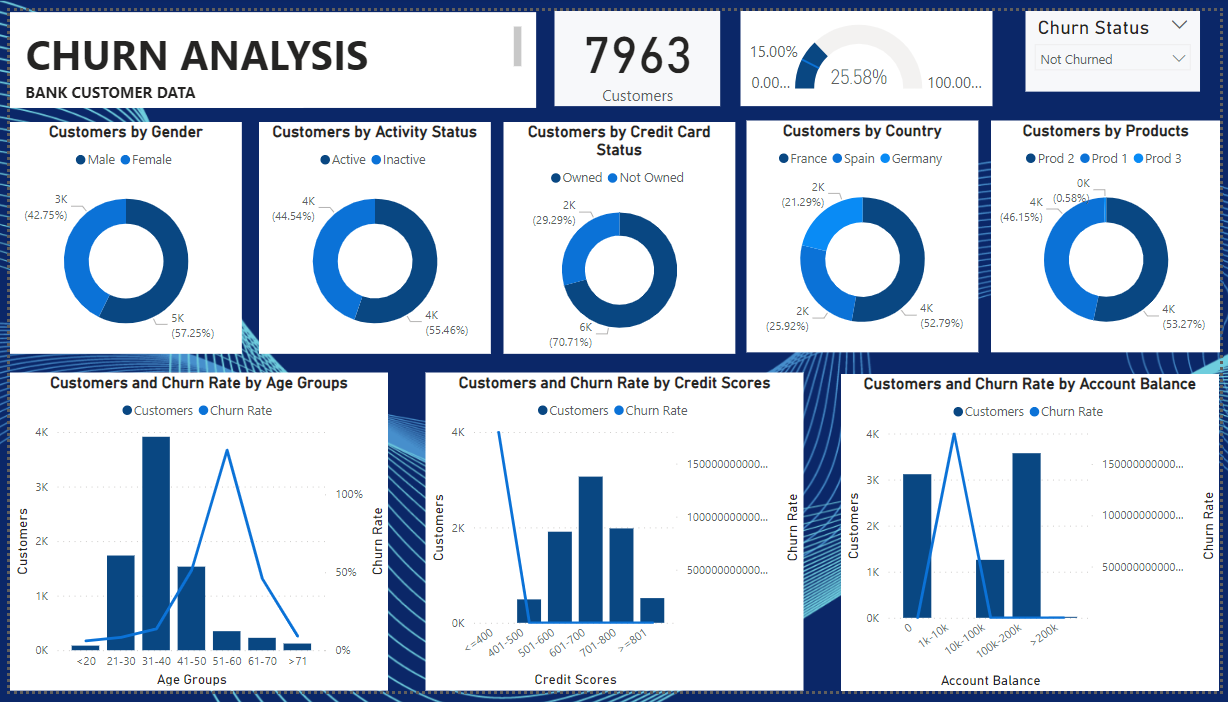

This screenshot's page, from the dashboard's own definition file:
{"tool":"powerbi","page":{"name":"Page 1","canvas":[1280,720],"ordinal":0},"visuals":[{"type":"card","fields":{"Values":["Customer Data.Customers"]},"box":[576.9,0,175.3,100.8],"z":1000},{"type":"shape","box":[0,1.6,556.8,100.8],"z":1500},{"type":"donutChart","fields":{"Category":["Customer Data.Gender"],"Y":["Customer Data.Customers"]},"box":[0,117.9,245,245],"z":2000},{"type":"donutChart","fields":{"Y":["Customer Data.Customers"],"Category":["Customer Data.Activity Status"]},"box":[263.7,117.9,245,245],"z":3000},{"type":"donutChart","fields":{"Y":["Customer Data.Customers"],"Category":["Customer Data.Credit Card Status"]},"box":[522.6,117.9,245,245],"z":4000},{"type":"donutChart","fields":{"Y":["Customer Data.Customers"],"Category":["Customer Data.Country"]},"box":[780.1,116.3,245,245],"z":5000},{"type":"donutChart","fields":{"Y":["Customer Data.Customers"],"Category":["Customer Data.Products"]},"box":[1037.5,116.3,243,245],"z":6000},{"type":"lineClusteredColumnComboChart","fields":{"Y":["Customer Data.Customers"],"Y2":["Customer Data.Churn Rate"],"Category":["Age Groups.Age Groups"]},"box":[0,383.1,400,336.5],"z":7000},{"type":"lineClusteredColumnComboChart","fields":{"Y":["Customer Data.Customers"],"Y2":["Customer Data.Churn Rate"],"Category":["Credit Scores Groups.Credit Scores"]},"box":[440.5,383.1,400.1,336.5],"z":8000},{"type":"lineClusteredColumnComboChart","fields":{"Y":["Customer Data.Customers"],"Y2":["Customer Data.Churn Rate"],"Category":["Account Balance Groups.Account Balance"]},"box":[879.4,383.1,400.1,336.5],"z":9000},{"type":"slicer","fields":{"Values":["Customer Data.Churn Status"]},"box":[1074.8,0,184.6,85.3],"z":10000},{"type":"gauge","fields":{"Y":["Customer Data.Churn Rate"],"MinValue":["Min(Customer Data.Min Churn Rate)"],"MaxValue":["Max(Customer Data.Max Churn Rate)"],"TargetValue":["Max(Customer Data.Target Churn Rate)"]},"box":[772.3,0,266.8,100.8],"z":11000},{"type":"textbox","box":[10.9,10.9,535.1,58.9],"z":12000},{"type":"textbox","box":[10.9,69.8,299.3,32.6],"z":12001}]}

Visuals, with their boxes in screenshot pixels (x1, y1, x2, y2), scaled from the page's 1280x720 canvas onto the 1228x702 screenshot:
card - Customer Data.Customers: l=553, t=0, r=722, b=98
shape: l=0, t=2, r=534, b=100
donutChart - Customer Data.Gender x Customer Data.Customers: l=0, t=115, r=235, b=354
donutChart - Customer Data.Customers x Customer Data.Activity Status: l=253, t=115, r=488, b=354
donutChart - Customer Data.Customers x Customer Data.Credit Card Status: l=501, t=115, r=736, b=354
donutChart - Customer Data.Customers x Customer Data.Country: l=748, t=113, r=983, b=352
donutChart - Customer Data.Customers x Customer Data.Products: l=995, t=113, r=1227, b=352
lineClusteredColumnComboChart - Customer Data.Customers x Customer Data.Churn Rate: l=0, t=374, r=384, b=701
lineClusteredColumnComboChart - Customer Data.Customers x Customer Data.Churn Rate: l=423, t=374, r=806, b=701
lineClusteredColumnComboChart - Customer Data.Customers x Customer Data.Churn Rate: l=844, t=374, r=1227, b=701
slicer - Customer Data.Churn Status: l=1031, t=0, r=1208, b=83
gauge - Customer Data.Churn Rate x Min(Customer Data.Min Churn Rate): l=741, t=0, r=997, b=98
textbox: l=10, t=11, r=524, b=68
textbox: l=10, t=68, r=298, b=100
